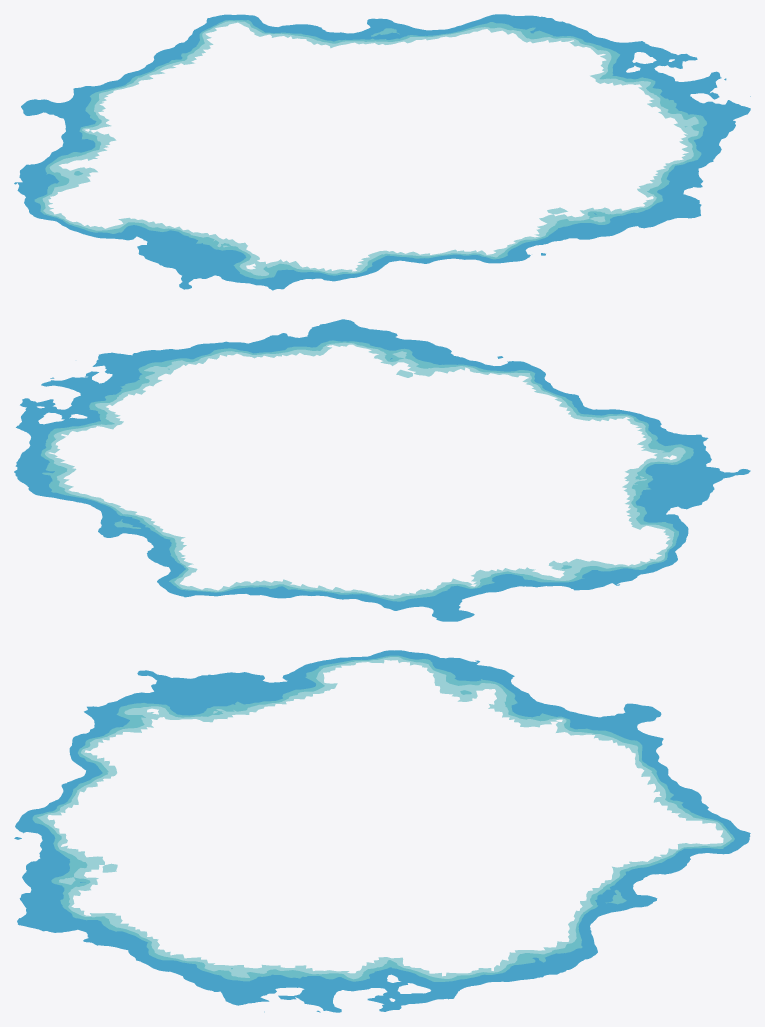
Rendered from Isl-rocky3-Water.fbx.
3 renders of one model, top to bottom at view 1: azimuth 30°, elevation 25°; view 2: azimuth 150°, elevation 25°; view 3: azimuth 270°, elevation 25°, orthographic. The views are drawn at different scales.
Visible parts, largest first — view 1: Isl-rocky3-Water; view 2: Isl-rocky3-Water; view 3: Isl-rocky3-Water.
Boxes of the visible parts, x1=… form: Isl-rocky3-Water: x1=14, y1=14, x2=750, y2=290; Isl-rocky3-Water: x1=14, y1=319, x2=750, y2=621; Isl-rocky3-Water: x1=14, y1=650, x2=750, y2=1012.
Size of the model in its own units: 140 by 0 by 120.
